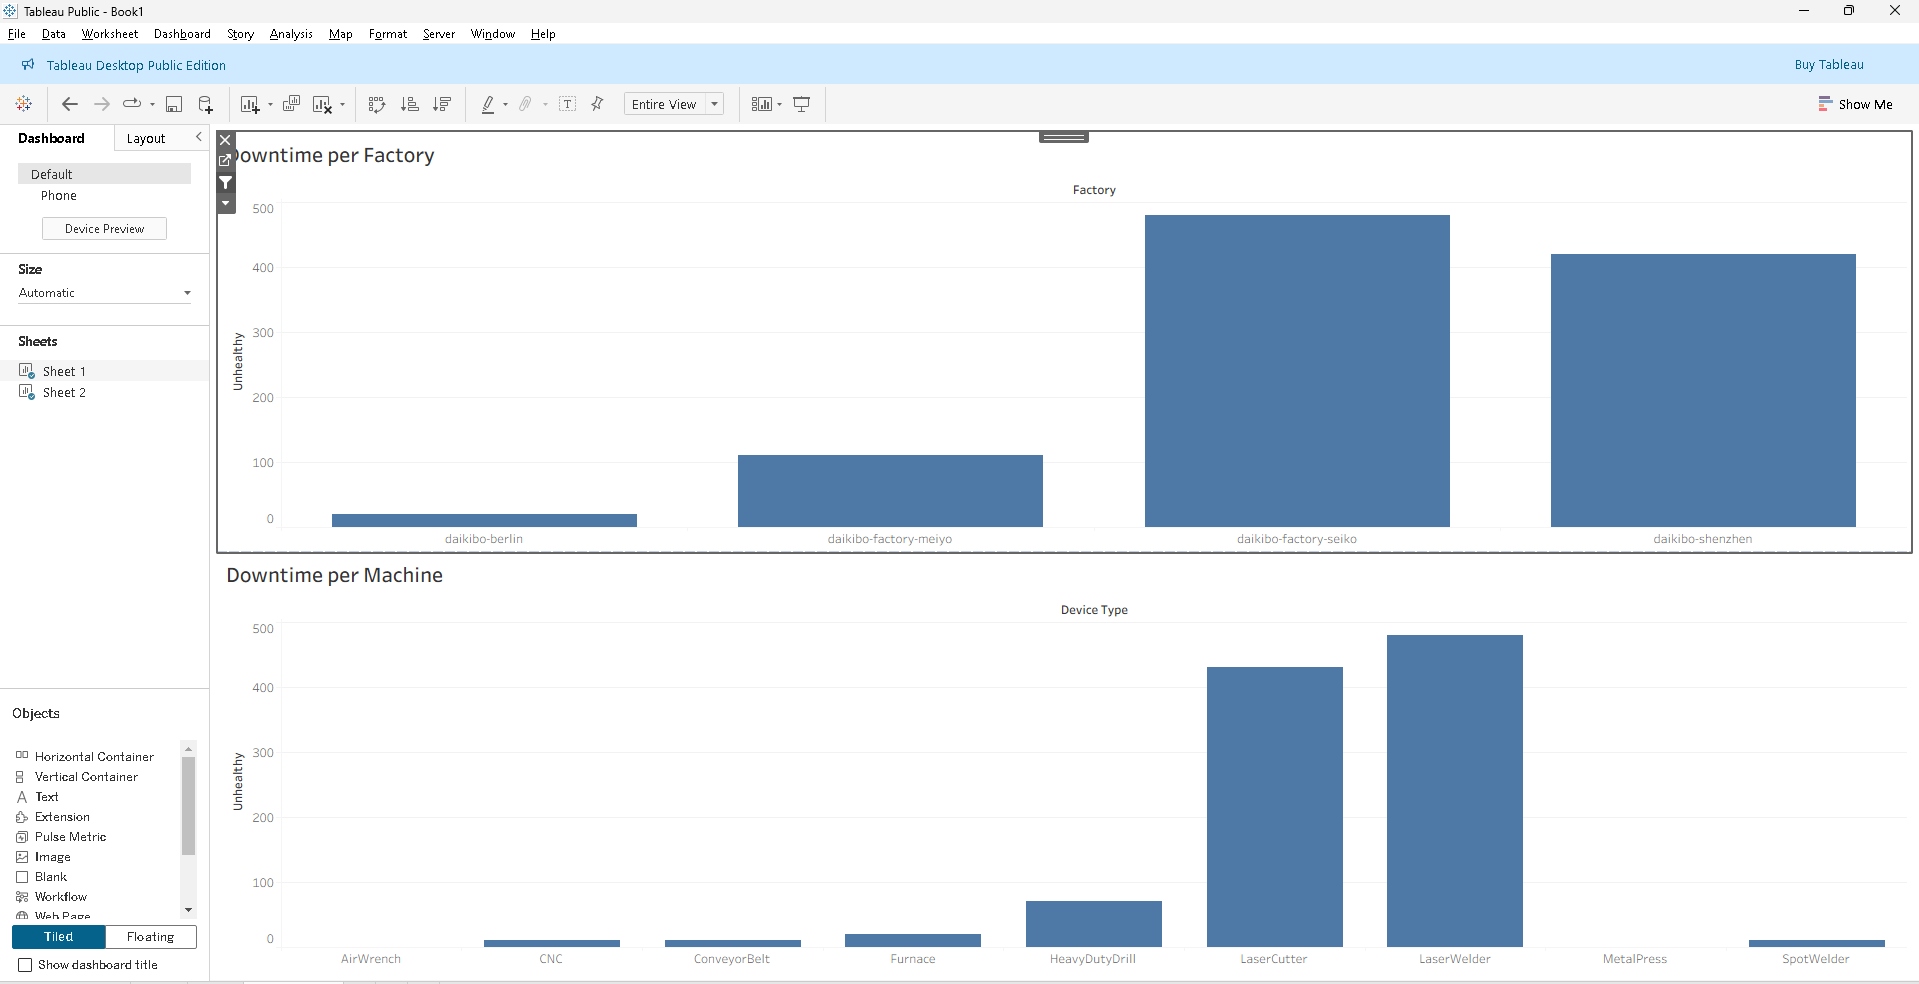

What the dashboard file says about the page in this screenshot:
{"tool":"tableau","page":{"name":"Dashboard 1","canvas":[1000,1000],"units":"permille","ordinal":0},"visuals":[{"type":"worksheet","title":"Sheet 1","mark":"Automatic","rows":["Calculation_0956618410811393"],"cols":["factory"],"box":[4.7,9.3,990.6,490.7]},{"type":"worksheet","title":"Sheet 2","mark":"Automatic","rows":["Calculation_0956618410811393"],"cols":["deviceType"],"box":[4.7,500,990.6,490.7]}]}

Visuals, with their boxes on the dashboard's canvas, which has no fixed pixel size, in thousandths of its width and height (x1, y1, x2, y2). These are canvas units, not pixel positions in the 1919x984 screenshot, which may show the page scaled, cropped or inside an application window:
"Sheet 1" worksheet: {"left": 5, "top": 9, "right": 995, "bottom": 500}
"Sheet 2" worksheet: {"left": 5, "top": 500, "right": 995, "bottom": 991}
